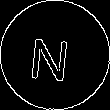N_N: (32, 28, 78, 82)
